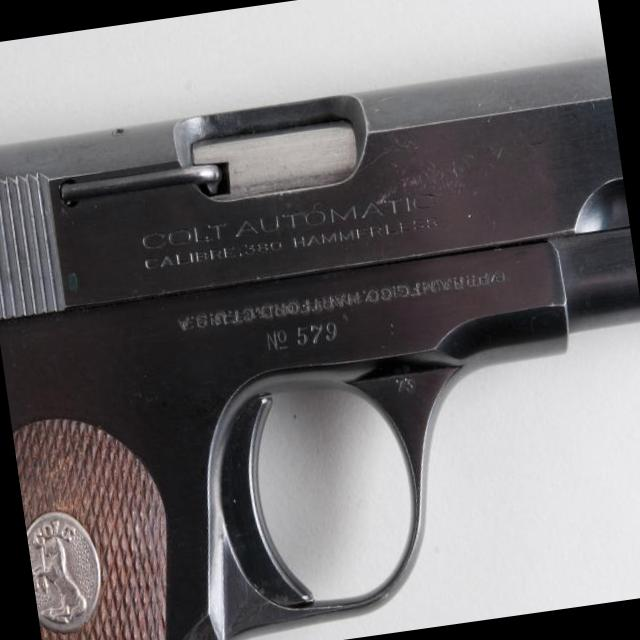Gun: (0, 59, 640, 640)
